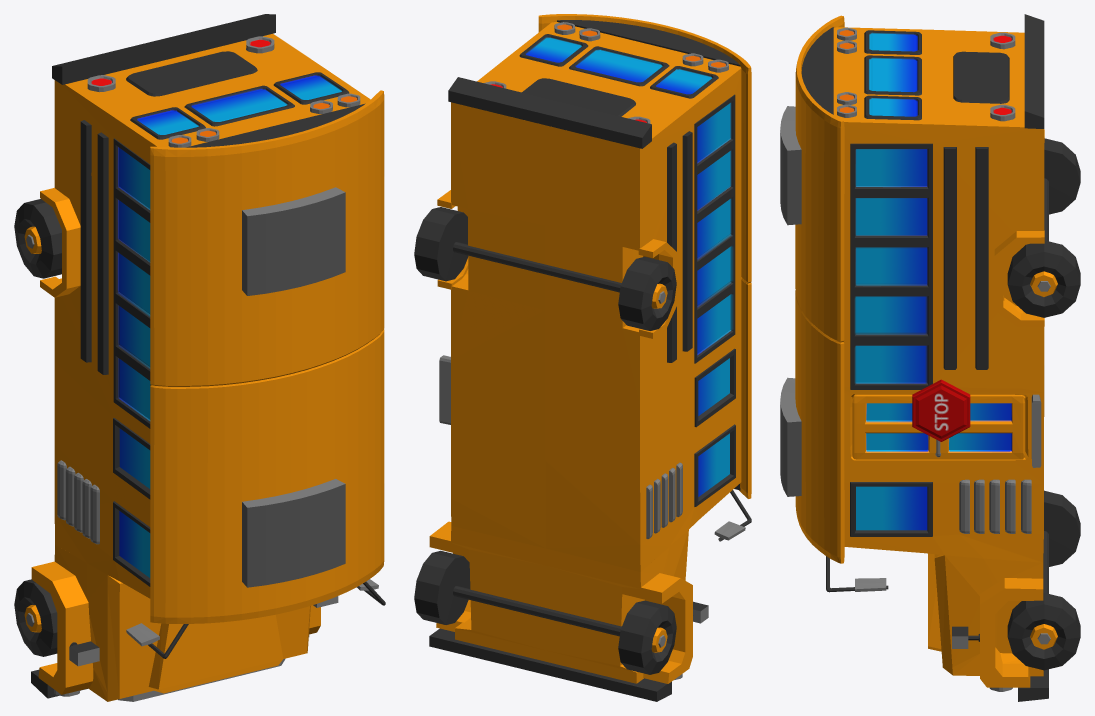
Rendered from School Bus.obj.
The picture shows the model from 3 angles, left to right: view 1: azimuth 30°, elevation 25°; view 2: azimuth 150°, elevation 25°; view 3: azimuth 270°, elevation 25°; orthographic projection. The views are drawn at different scales.
Parts seen in each view (by area): view 1: Object.1; view 2: Object.1; view 3: Object.1.
Boxes of the visible parts, bbox=[...] form: Object.1: bbox=[14, 14, 385, 701]; Object.1: bbox=[414, 14, 751, 701]; Object.1: bbox=[780, 14, 1080, 701].
Bounding box in the file's own units: 507 × 1164 × 544.
1 material, 1 textured.
